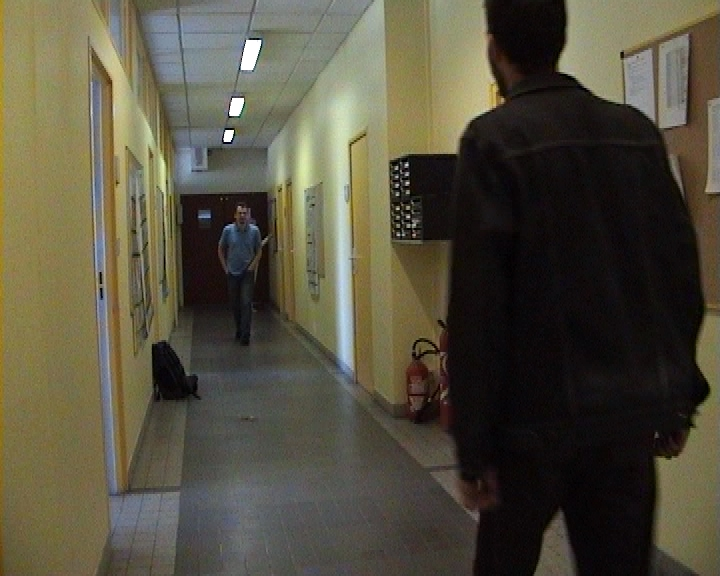leave bag unattended: (131, 317, 211, 416)
